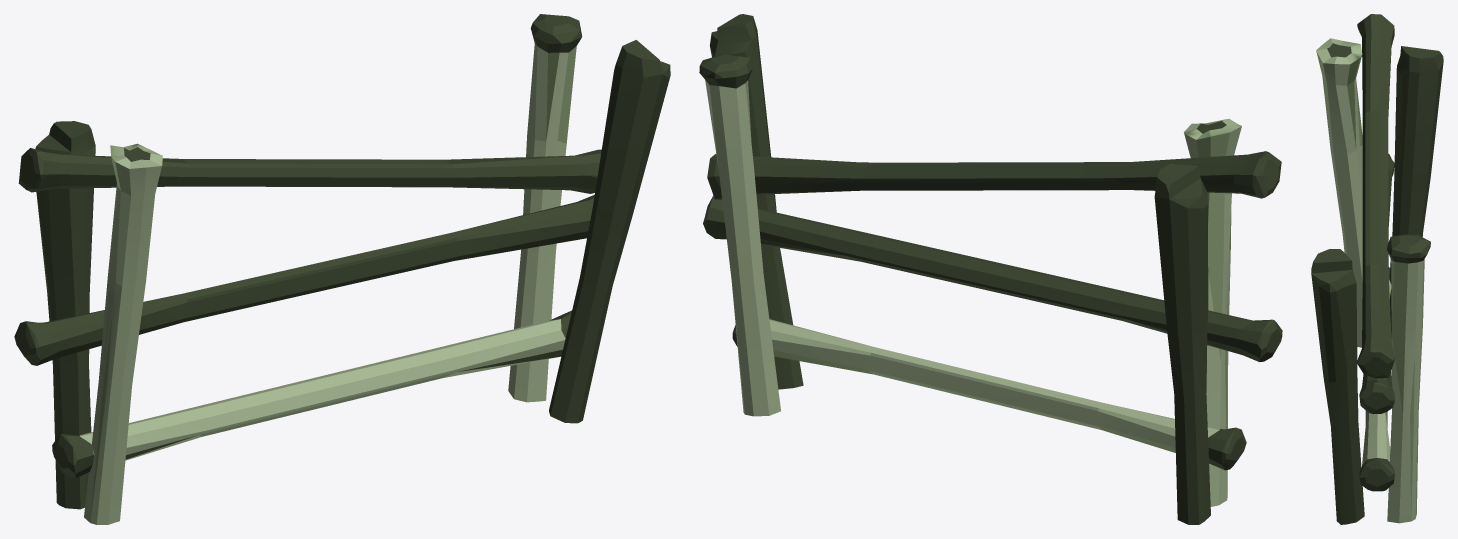
File: EA_Fence_02b.glb
3 views of the same model, side by side, from view 1: azimuth 30°, elevation 25°; view 2: azimuth 150°, elevation 25°; view 3: azimuth 270°, elevation 25° (orthographic). The views are drawn at different scales.
Visible parts, largest first — view 1: EA_Fence_02b; view 2: EA_Fence_02b; view 3: EA_Fence_02b.
Boxes of the visible parts, <box> form: EA_Fence_02b: <box>14,14,670,524</box>; EA_Fence_02b: <box>699,14,1282,524</box>; EA_Fence_02b: <box>1311,14,1443,524</box>.
Bounding box in the file's own units: 1.54 × 0.9109 × 0.3576.
Materials: 1 (1 with a texture image).
